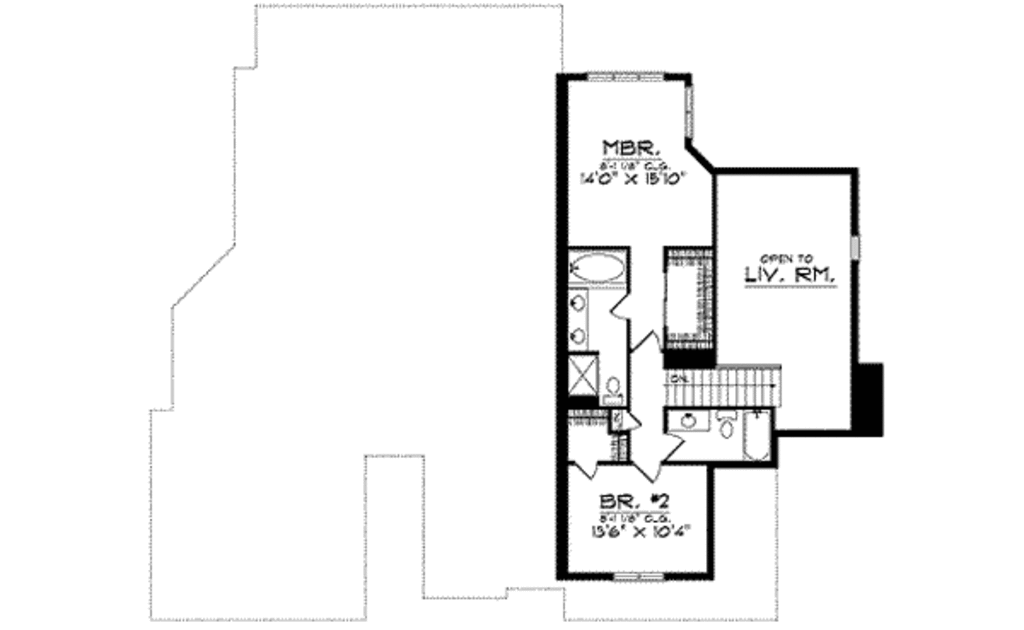door: (609, 290, 634, 323), (629, 330, 662, 354), (661, 432, 684, 463), (633, 460, 661, 485), (576, 459, 602, 481), (626, 410, 647, 433)
large_sink: (715, 412, 740, 443), (601, 373, 624, 405)
small_sink: (565, 289, 592, 355), (669, 412, 710, 432)
stairs: (661, 364, 787, 407)
tub: (569, 245, 634, 287), (744, 410, 772, 462)
window: (589, 73, 666, 84), (685, 86, 695, 140), (618, 568, 662, 580)
